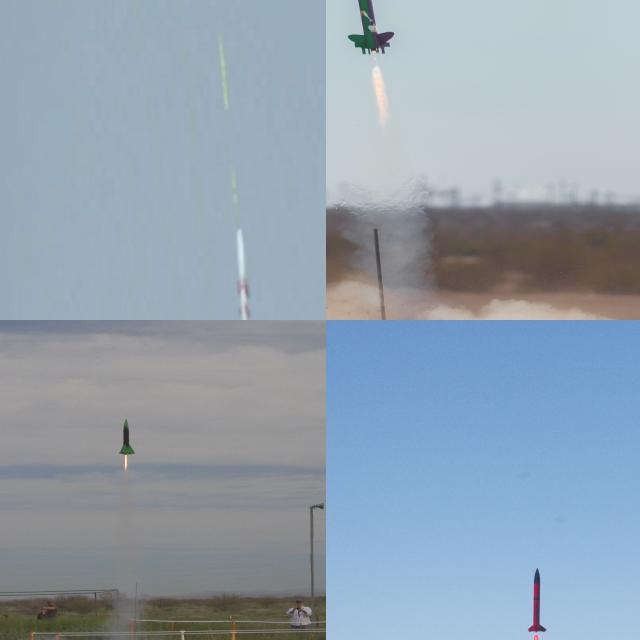Rocket: (231, 225, 264, 320), (345, 0, 394, 54), (527, 567, 547, 633), (118, 417, 136, 455)
